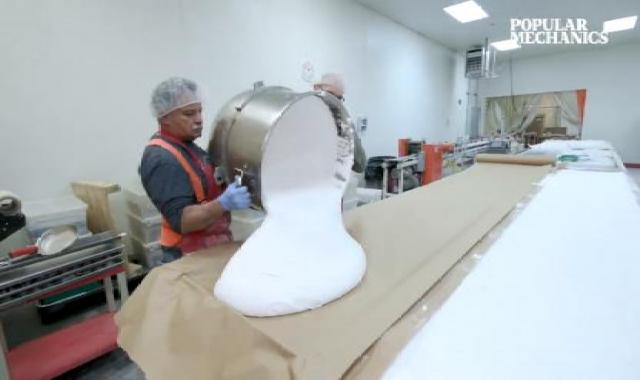hairnet: (134, 75, 210, 120), (309, 69, 362, 92)
